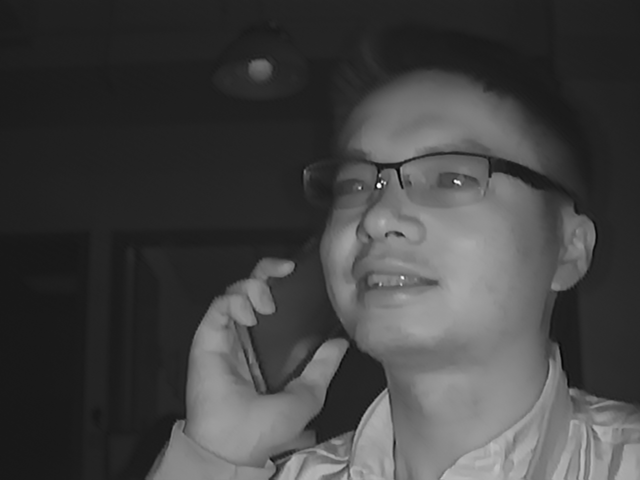hand: (188, 253, 337, 458)
